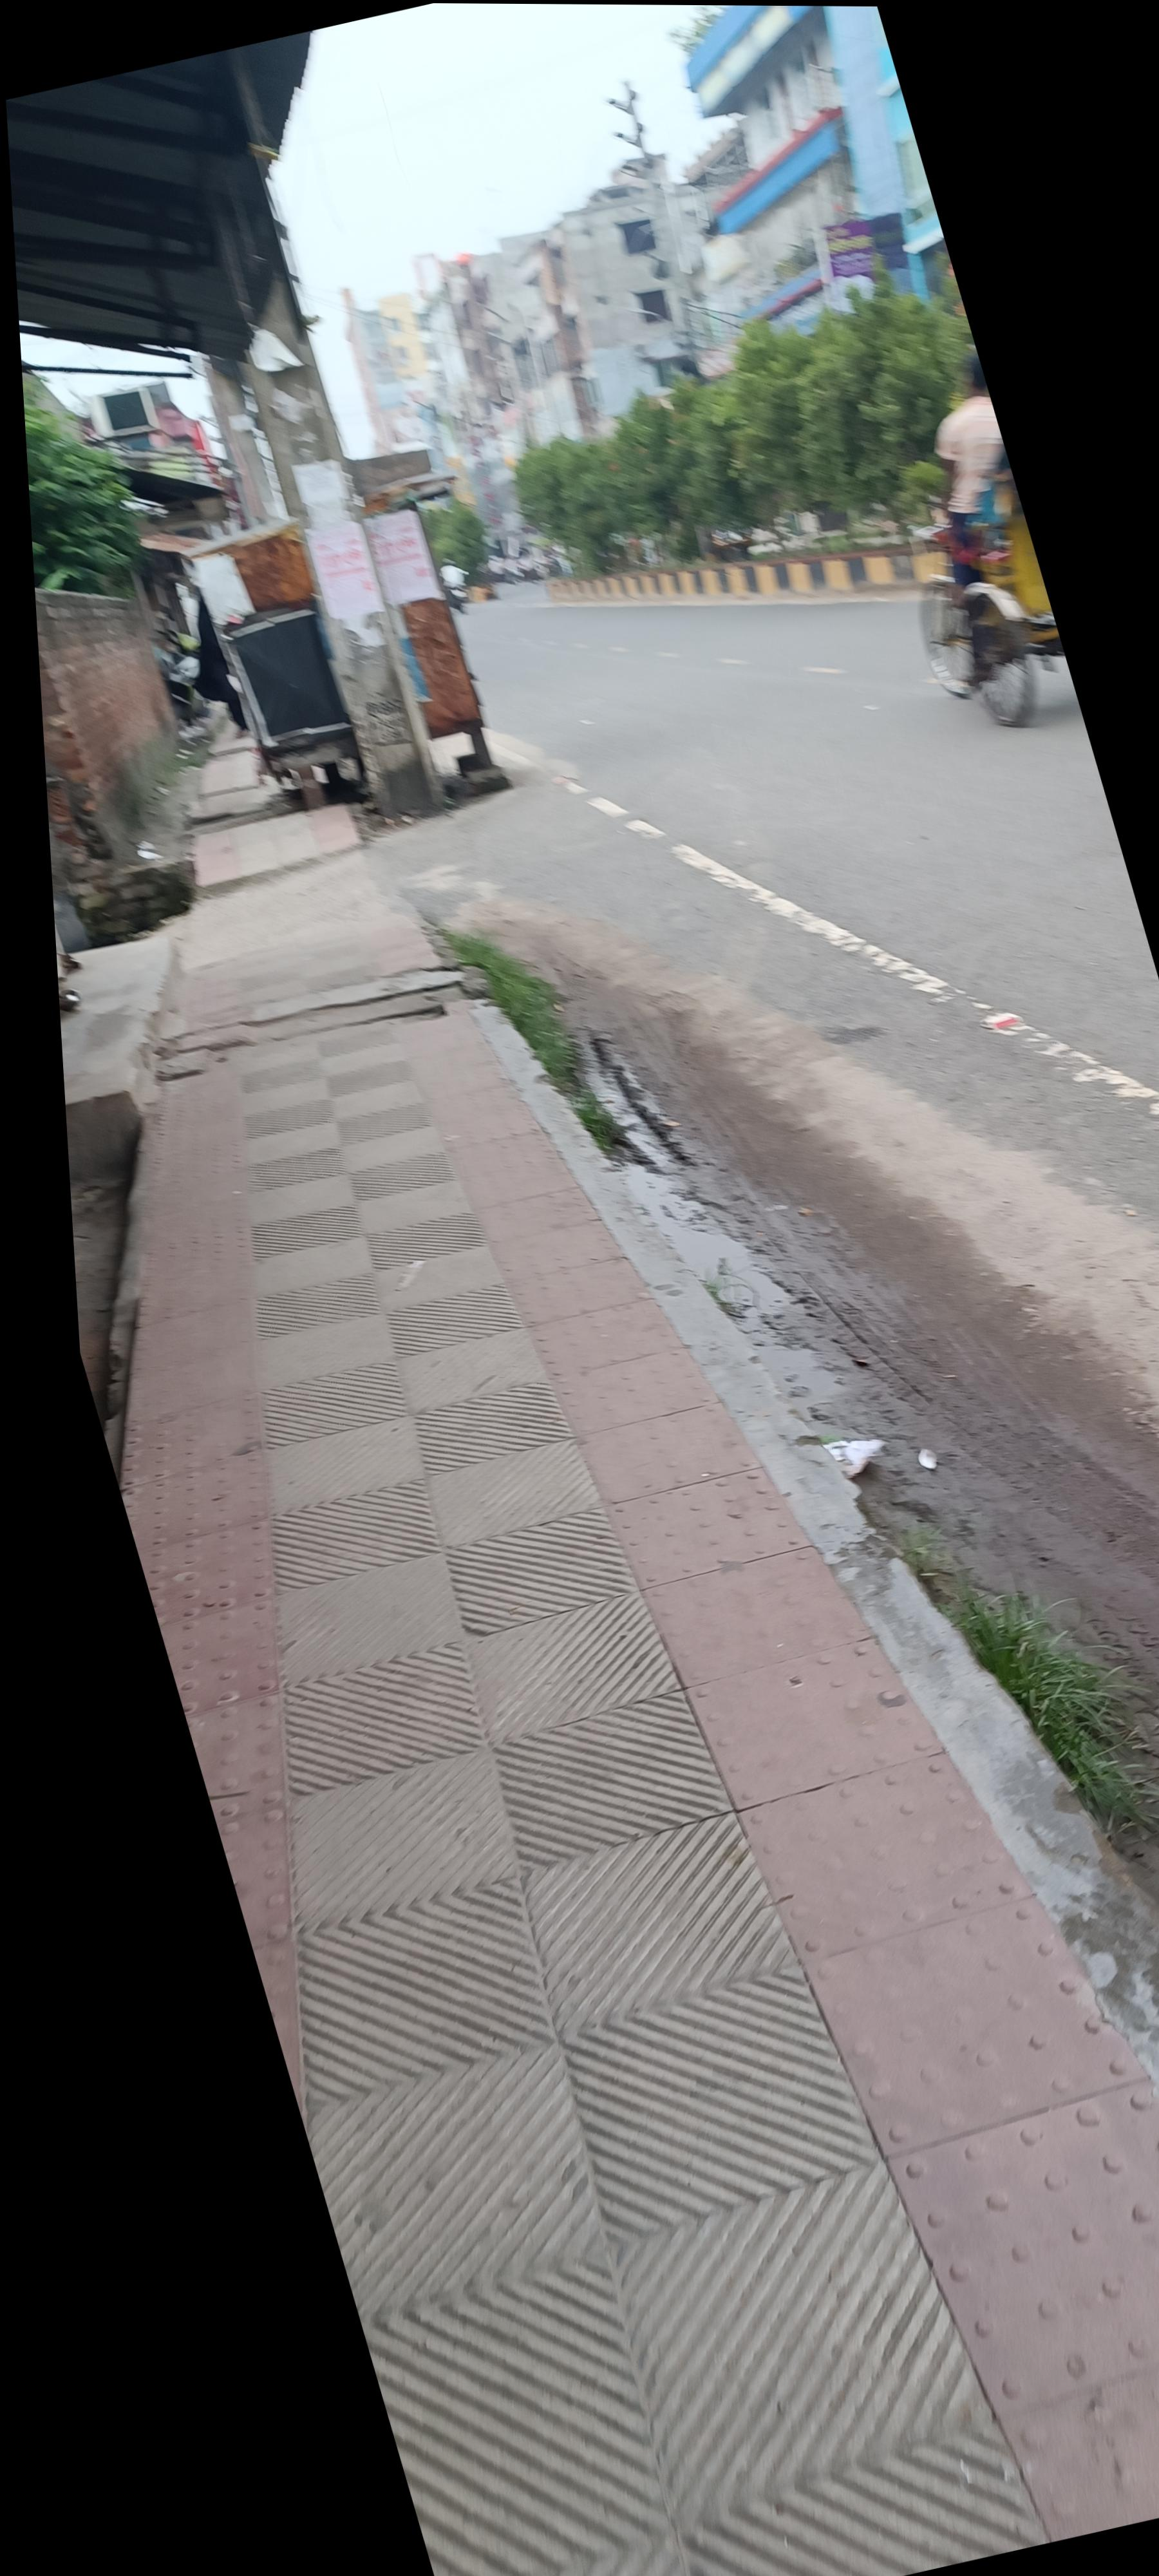Fallen-tree: (619, 630, 819, 898)
Garbage-bin: (623, 497, 804, 835)
Light-pole: (23, 493, 237, 986)
Pothole: (33, 712, 1123, 2576)
